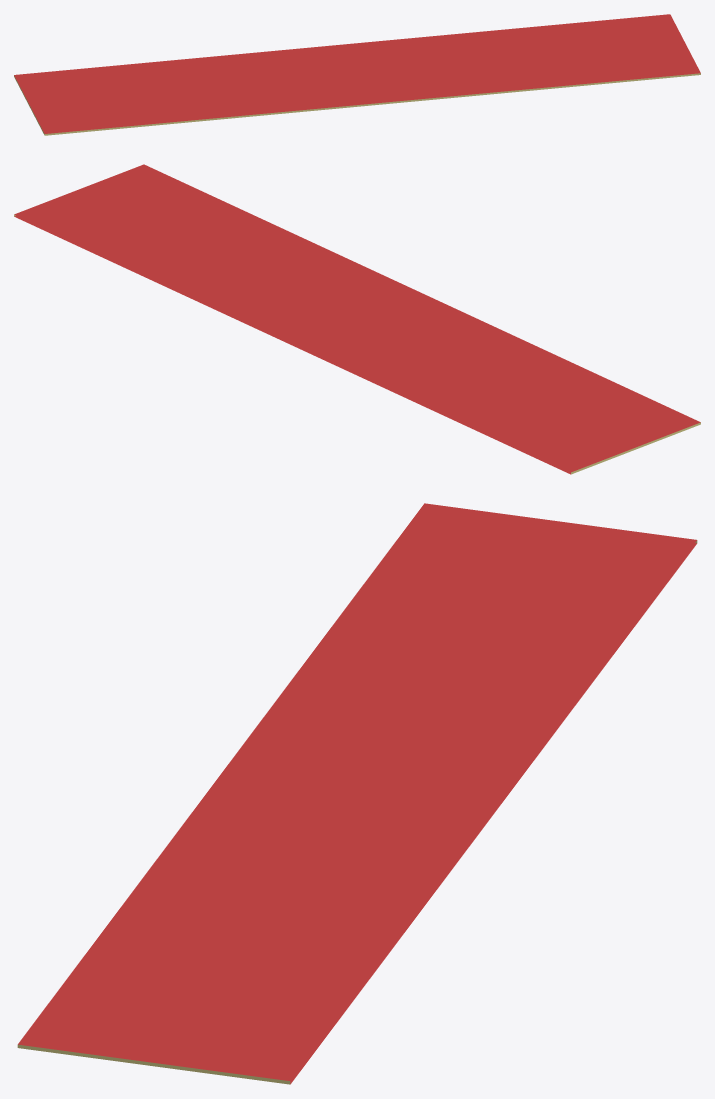
3 renders of one model, top to bottom at view 1: azimuth 30°, elevation 25°; view 2: azimuth 150°, elevation 25°; view 3: azimuth 270°, elevation 25°, orthographic. The views are drawn at different scales.
Visible parts, largest first — view 1: group_3, group_4; view 2: group_3, group_5; view 3: group_3, group_5, group_4.
Boxes of the visible parts, x1,y1,x2,y2 form: group_3: (14,14,700,133); group_4: (14,73,700,135); group_3: (14,164,700,472); group_5: (14,215,570,474); group_3: (18,503,696,1080); group_5: (290,543,696,1084); group_4: (17,540,697,1084).
Size of the model in its own units: 35.99 by 17.89 by 0.1.
